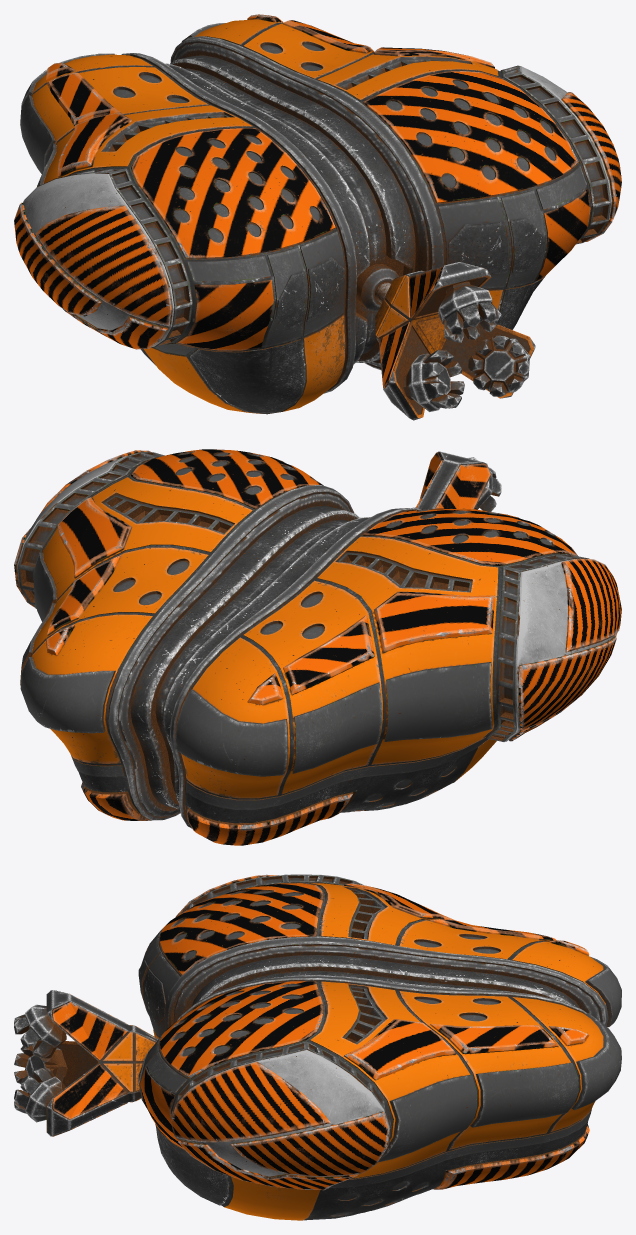
The model's file is mining_drone_mk7.glb.
The picture shows the model from 3 angles, top to bottom: view 1: azimuth 30°, elevation 25°; view 2: azimuth 150°, elevation 25°; view 3: azimuth 270°, elevation 25°; orthographic projection. The views are drawn at different scales.
Parts seen in each view (by area): view 1: mining_drone_mk7_col; view 2: mining_drone_mk7_col; view 3: mining_drone_mk7_col.
Boxes of the visible parts, x1=… form: mining_drone_mk7_col: x1=14, y1=14, x2=621, y2=420; mining_drone_mk7_col: x1=14, y1=449, x2=621, y2=845; mining_drone_mk7_col: x1=14, y1=874, x2=621, y2=1220.
Bounding box in the file's own units: 1.56 × 0.7085 × 1.74.
2 materials, 2 textured.
